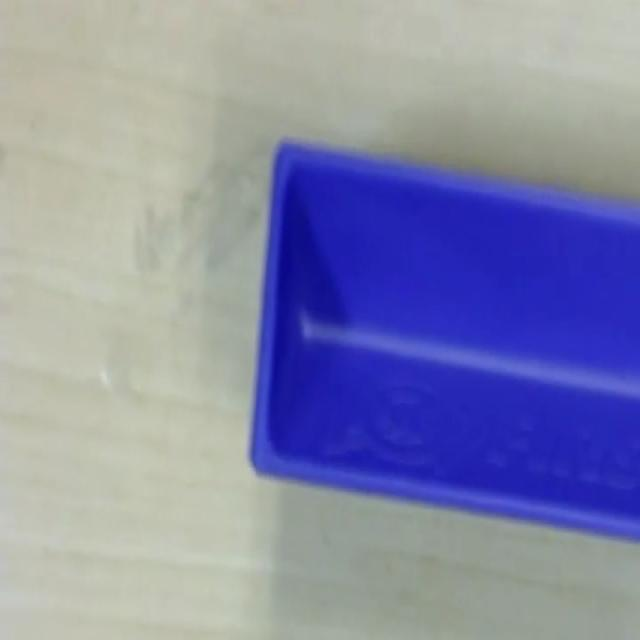blue_block: (247, 134, 638, 542)
